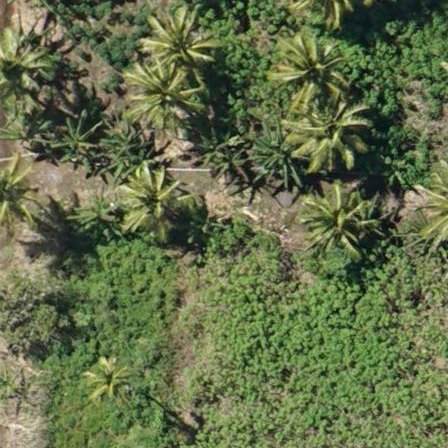palm_tree: (294, 170, 376, 258), (113, 163, 192, 247), (283, 93, 362, 176), (124, 52, 196, 129), (148, 4, 215, 75), (278, 34, 342, 102), (1, 20, 51, 107), (80, 347, 133, 404)
